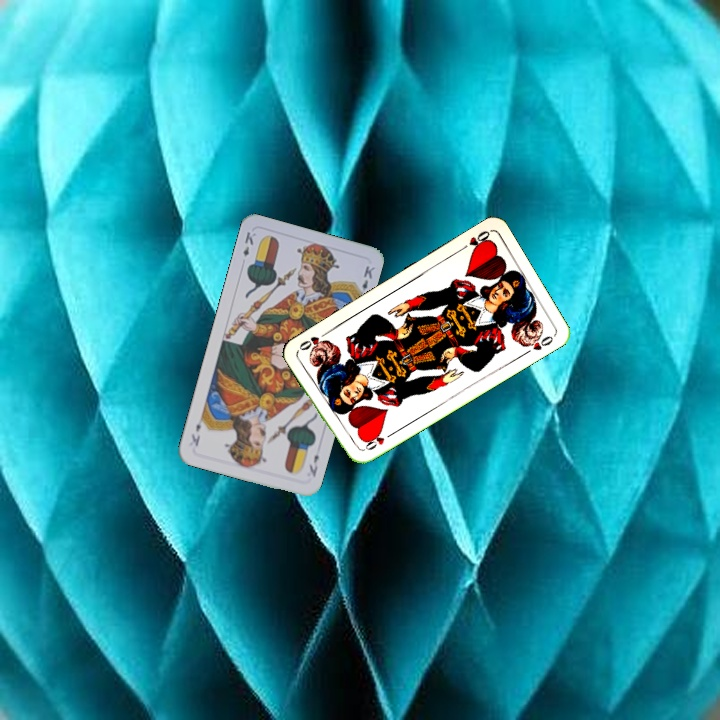EK: (239, 228, 258, 259), (305, 450, 321, 479)
HO: (356, 427, 394, 454), (456, 226, 493, 253)
